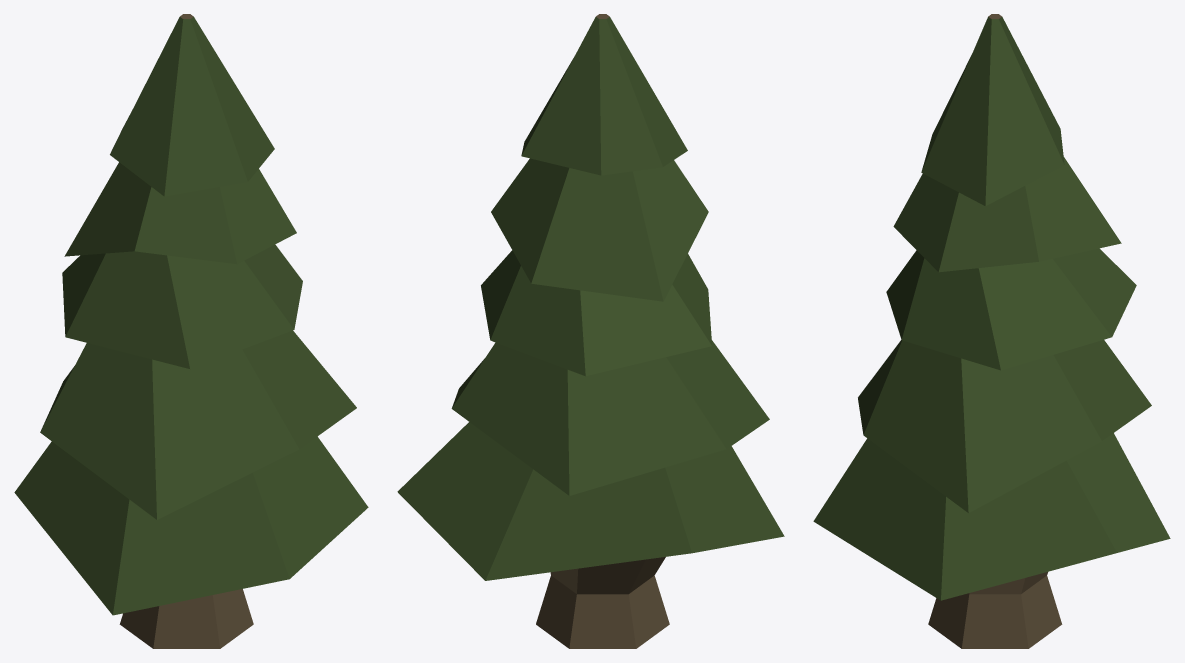
File: Tree1.fbx
The picture shows the model from 3 angles, left to right: view 1: azimuth 30°, elevation 25°; view 2: azimuth 150°, elevation 25°; view 3: azimuth 270°, elevation 25°; orthographic projection.
Visible parts, largest first — view 1: Cylinder; view 2: Cylinder; view 3: Cylinder.
Part boxes in pixels (x1,y1,x2,y2): Cylinder: (14, 14, 368, 648); Cylinder: (397, 14, 784, 648); Cylinder: (813, 14, 1170, 648).
Bounding box in the file's own units: 266 × 528 × 281.
